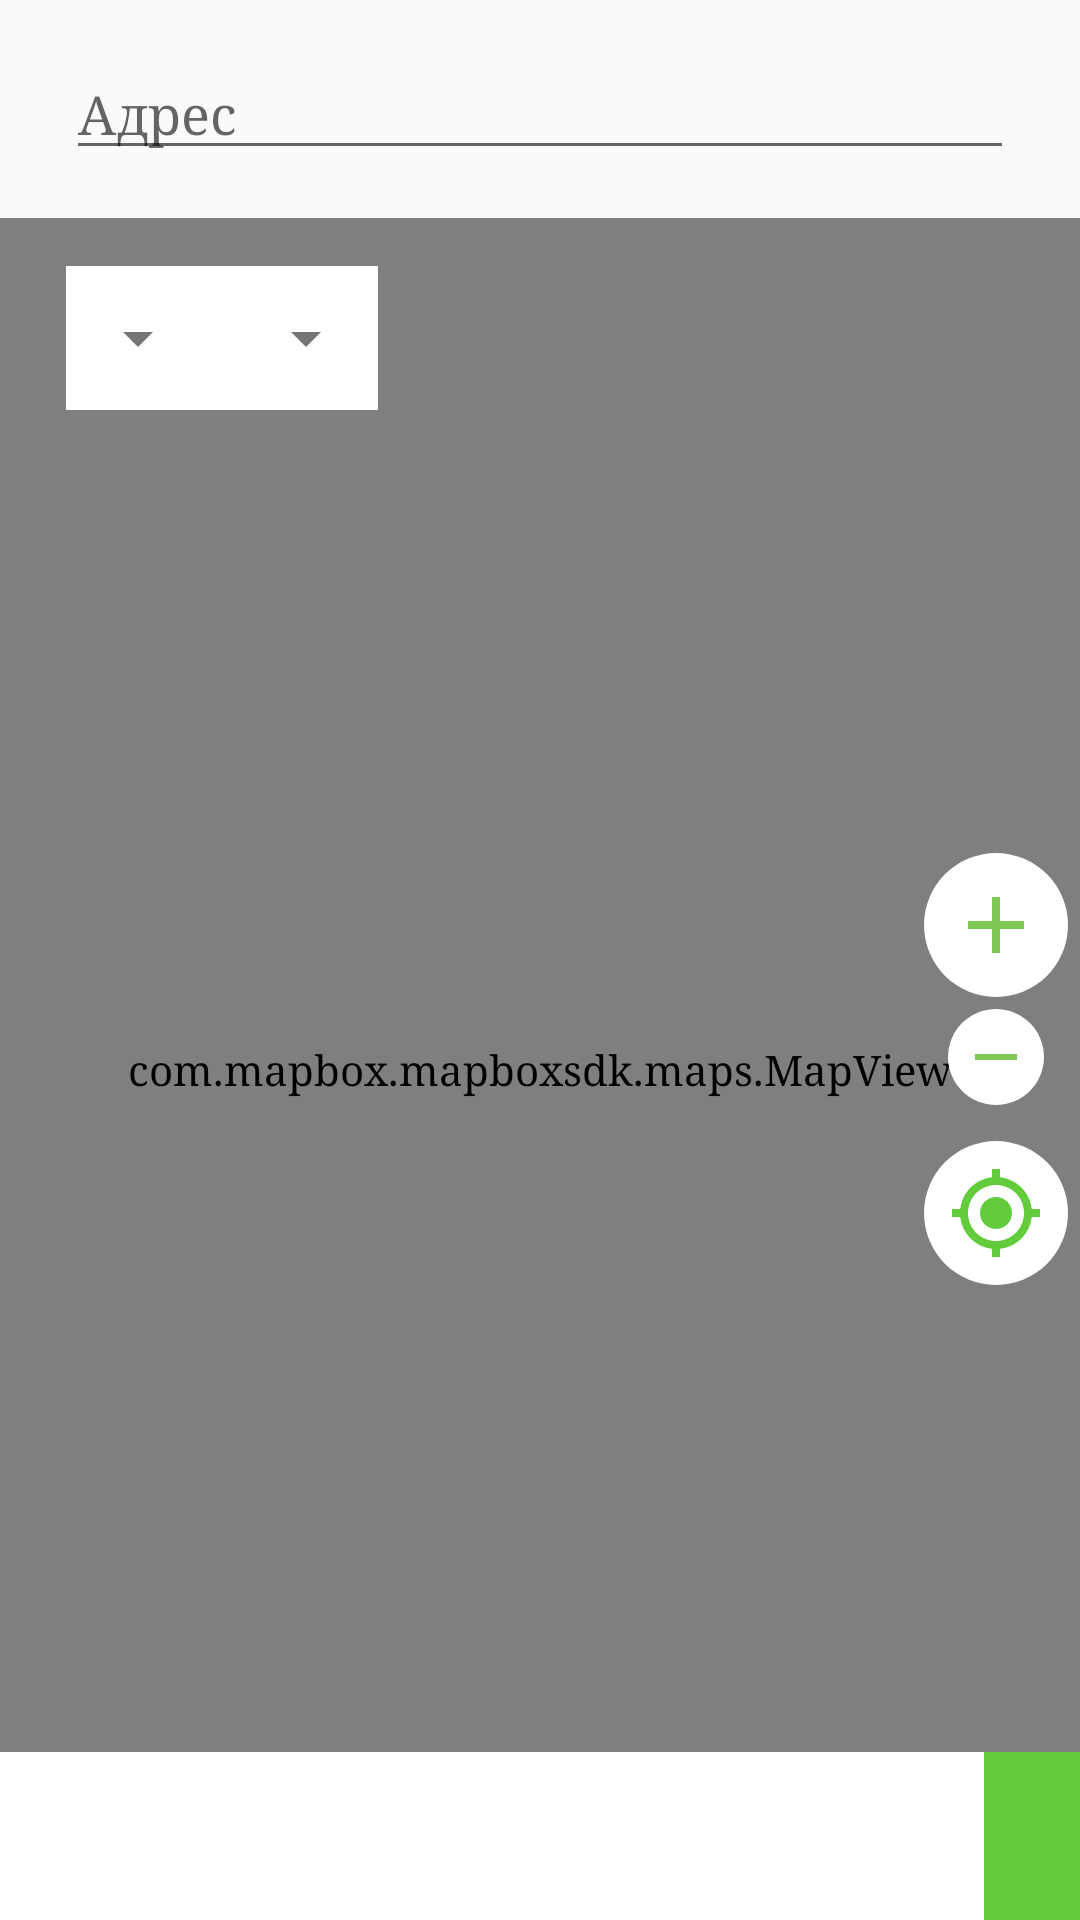

Where icons sit on this 1080w x 1920h app screen, as bbox=(x1, y1, x2, y2):
add: bbox=(924, 853, 1068, 997)
location: bbox=(924, 1141, 1068, 1285)
remove: bbox=(948, 1009, 1044, 1105)
